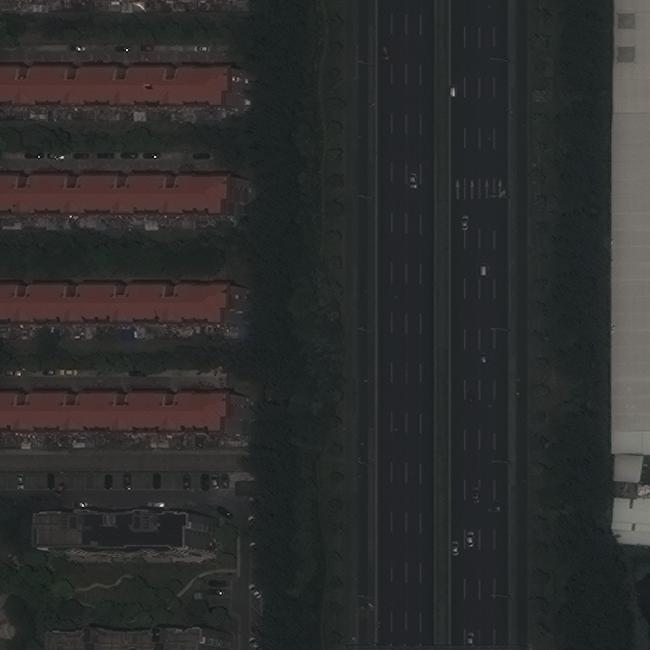parking lot: (17, 470, 229, 493)
